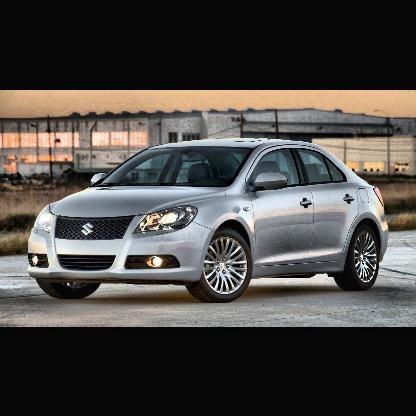Suzuki Kizashi Sedan 2012: (28, 135, 390, 291)
